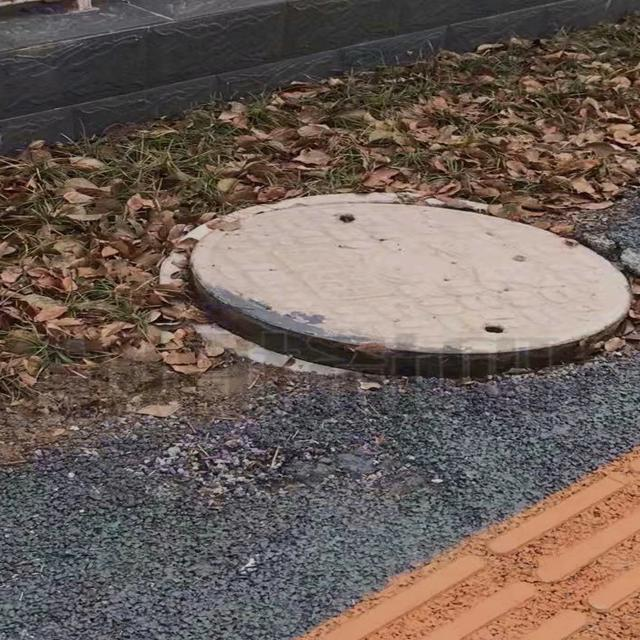uncovered: (158, 188, 640, 371)
